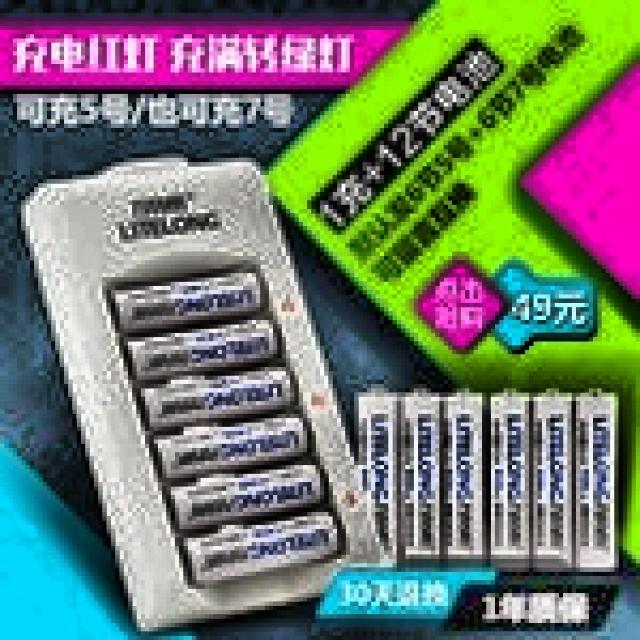Non-Valuable Waste - Batteries: (181, 510, 340, 586), (167, 464, 325, 531), (153, 414, 307, 481), (140, 366, 295, 431), (110, 271, 263, 335), (124, 319, 279, 381), (443, 391, 487, 560), (575, 394, 617, 570), (356, 389, 399, 559), (533, 394, 573, 569), (400, 390, 441, 560), (490, 393, 530, 567)
